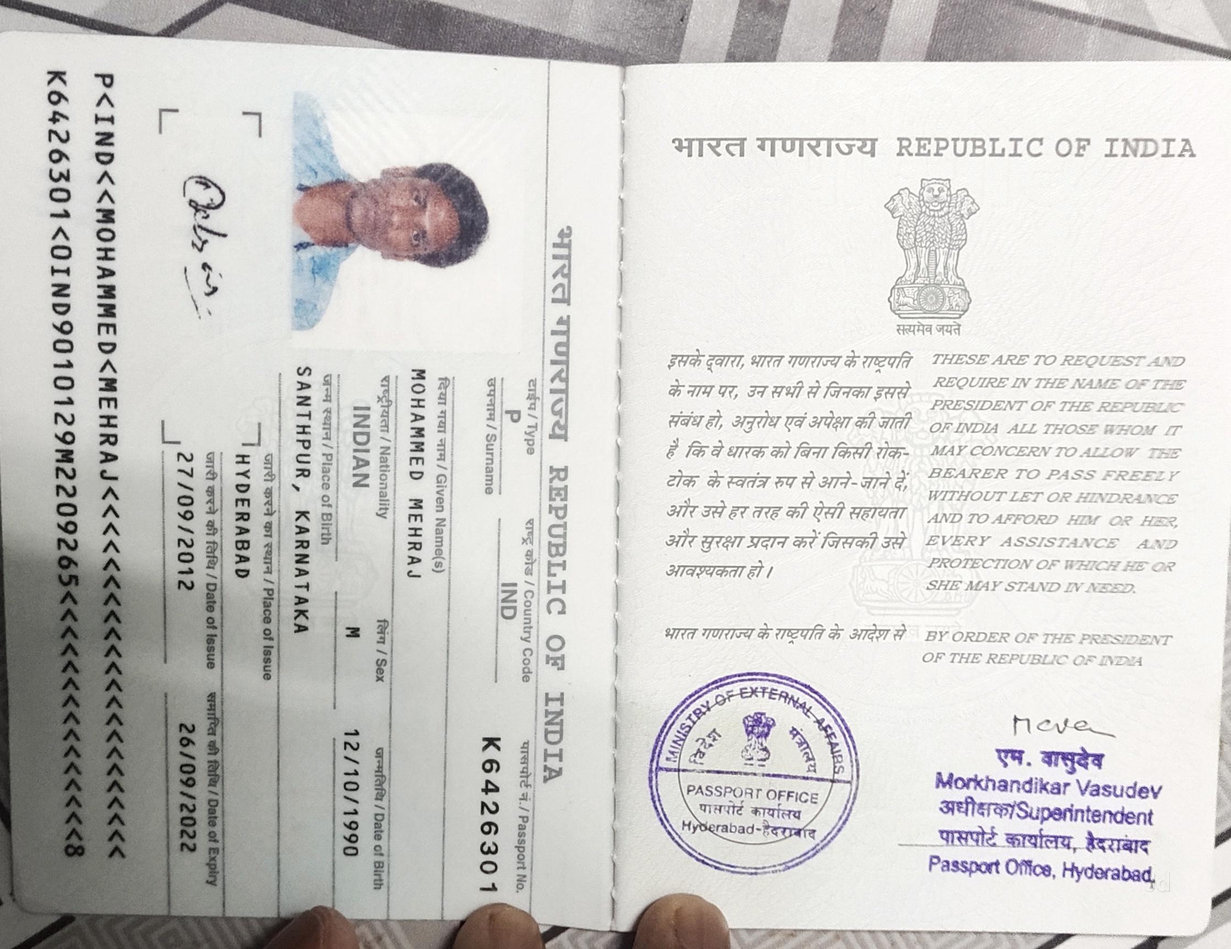DOB: (336, 715, 366, 868)
country_code: (497, 572, 522, 633)
date_of_expiry: (170, 709, 202, 861)
date_of_issue: (170, 448, 201, 598)
details: (30, 56, 136, 869)
name: (403, 362, 427, 593)
nationality: (345, 393, 377, 503)
passport_no: (472, 728, 508, 903)
photo: (292, 100, 509, 341)
place_of_birth: (289, 355, 319, 654)
place_of_issue: (228, 446, 258, 589)
sex: (339, 608, 364, 664)
sign: (173, 165, 237, 322)
type: (502, 394, 524, 442)
